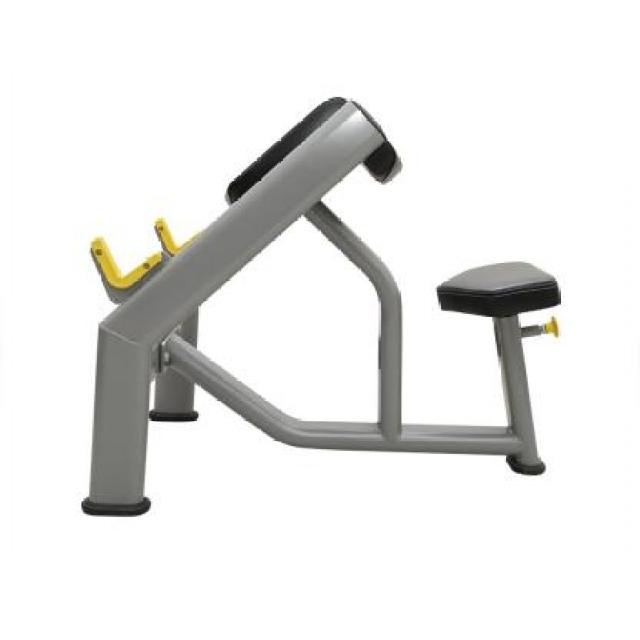arm curl machine: (83, 97, 562, 518)
